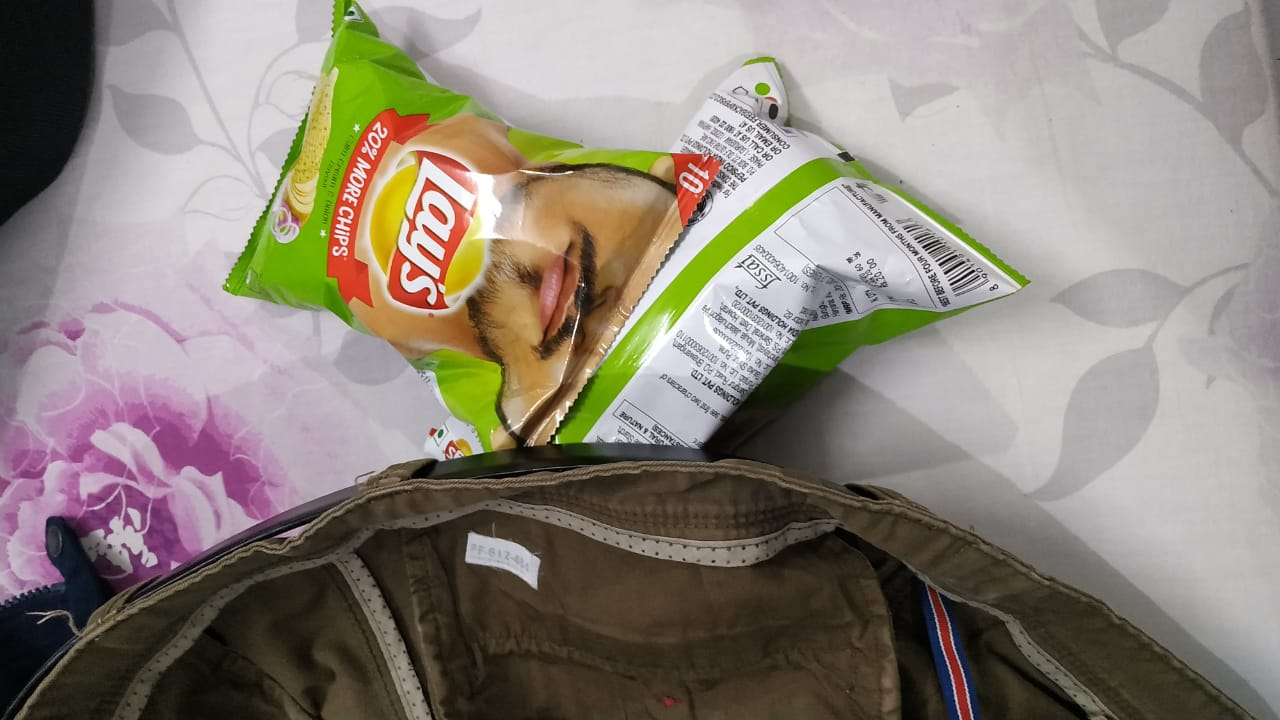lays chips: (216, 6, 677, 452), (561, 53, 1041, 459)
